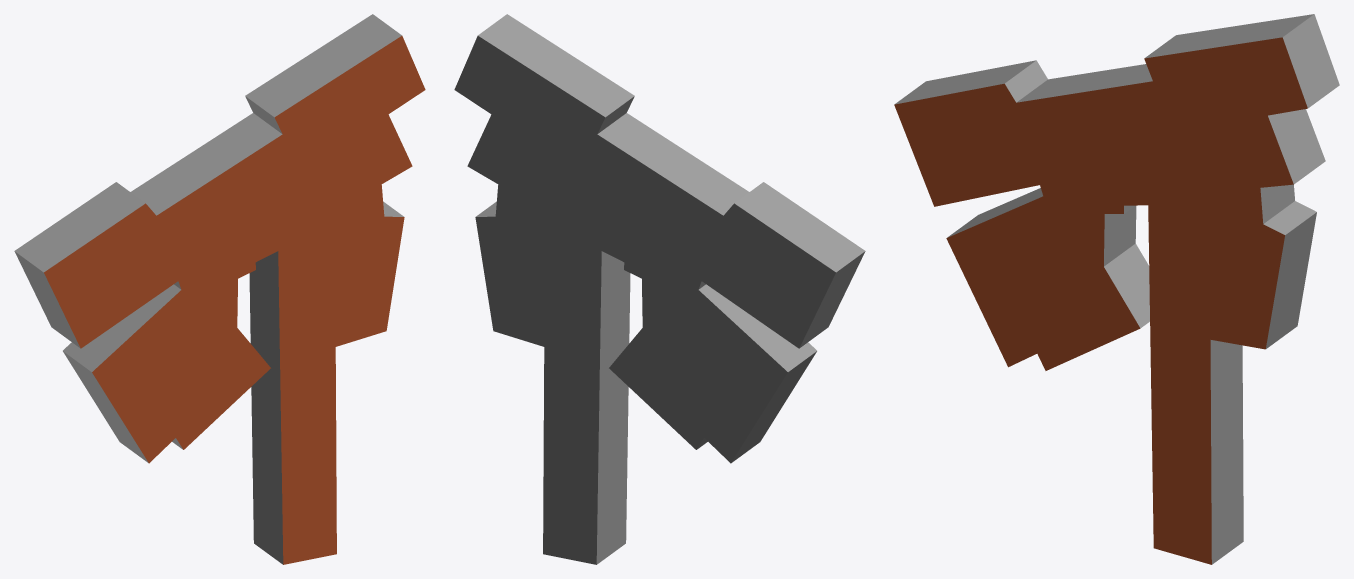
The model's file is construction_3946_assumed_A_Casa_h6m.obj.
3 views of the same model, side by side, from view 1: azimuth 30°, elevation 25°; view 2: azimuth 150°, elevation 25°; view 3: azimuth 330°, elevation 25° (orthographic). The views are drawn at different scales.
Parts seen in each view (by area): view 1: construction_3946_assumed_A_Casa; view 2: construction_3946_assumed_A_Casa; view 3: construction_3946_assumed_A_Casa.
Part boxes in pixels (<box>): construction_3946_assumed_A_Casa: <box>14,14,425,564</box>; construction_3946_assumed_A_Casa: <box>454,14,865,564</box>; construction_3946_assumed_A_Casa: <box>894,14,1339,564</box>.
Bounding box in the file's own units: 44.94 × 56.54 × 6.
